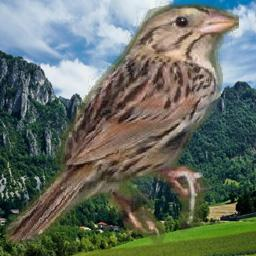Sparrow: (7, 2, 240, 245)
